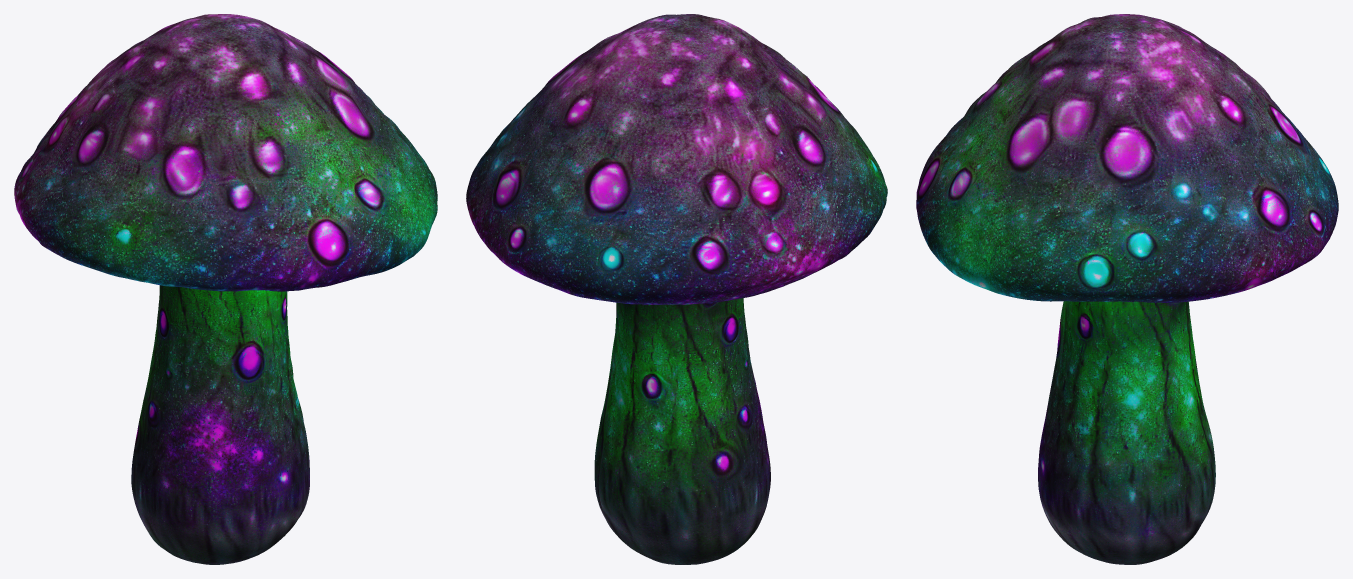
Rendered from powercaps.glb.
3 views of the same model, side by side, from view 1: azimuth 30°, elevation 25°; view 2: azimuth 150°, elevation 25°; view 3: azimuth 270°, elevation 25° (orthographic).
Visible parts, largest first — view 1: model; view 2: model; view 3: model.
Part boxes in pixels (x1=…): model: x1=14, y1=14, x2=437, y2=564; model: x1=466, y1=14, x2=887, y2=564; model: x1=916, y1=14, x2=1338, y2=564.
Bounding box in the file's own units: 1.35 × 1.87 × 1.37.
1 material, 1 textured.
